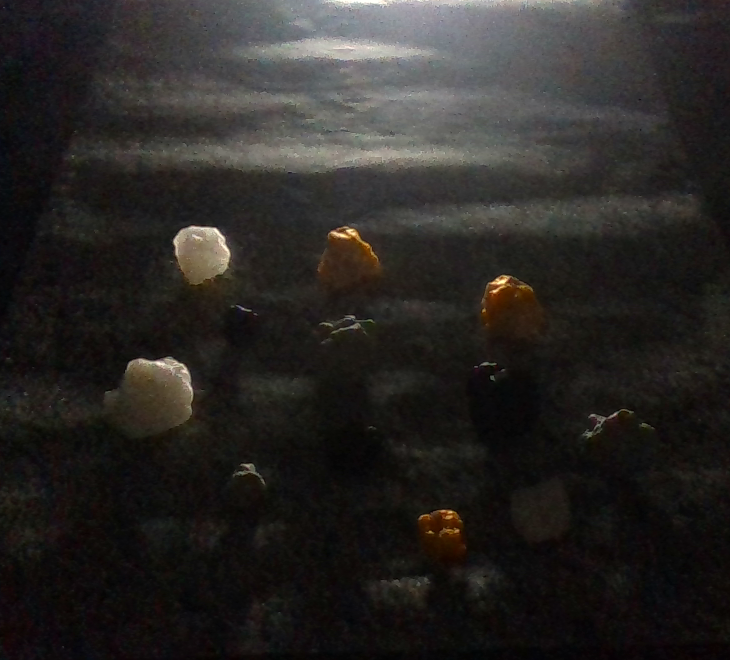anorthosite: (97, 357, 187, 440), (502, 474, 566, 542), (169, 226, 223, 286)
basalt: (459, 360, 535, 444), (318, 419, 376, 474), (215, 305, 252, 346)
metal: (476, 274, 537, 341), (312, 226, 373, 289), (412, 509, 462, 560)
regolith: (296, 315, 371, 386), (574, 410, 652, 478), (215, 463, 261, 508)
